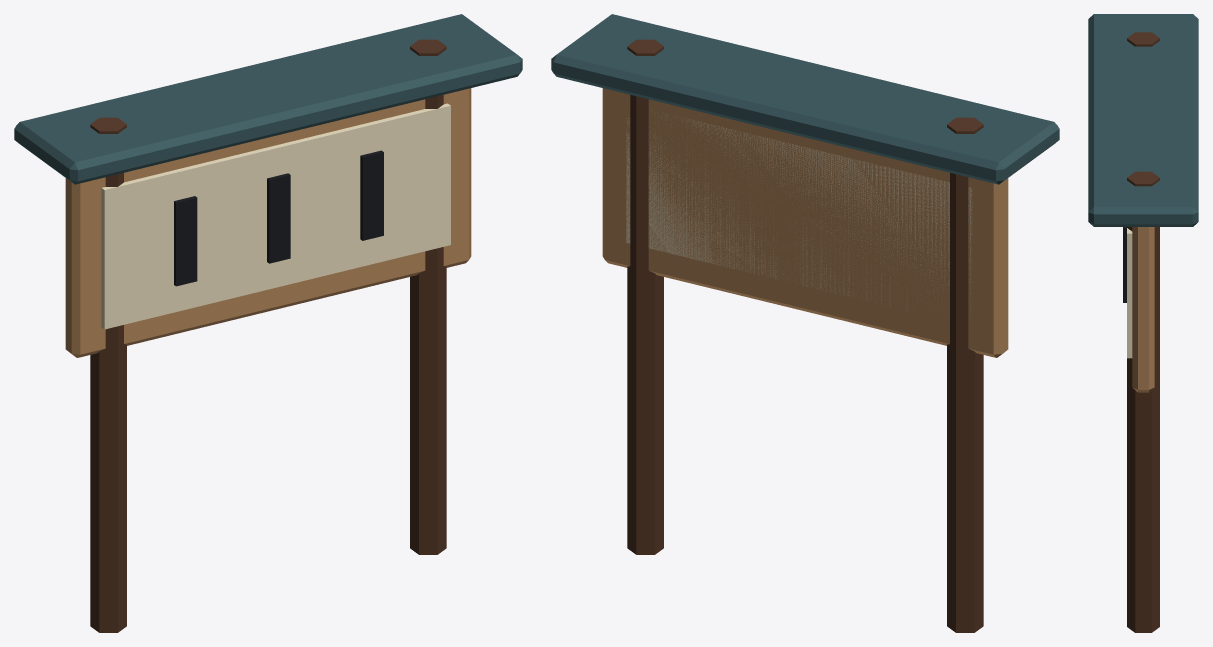
Rendered from signboard.glb.
3 views of the same model, side by side, from view 1: azimuth 30°, elevation 25°; view 2: azimuth 150°, elevation 25°; view 3: azimuth 270°, elevation 25° (orthographic). The views are drawn at different scales.
Visible parts, largest first — view 1: Sign; view 2: Sign; view 3: Sign.
Boxes of the visible parts, x1,y1,x2,y2 form: Sign: (14,14,522,632); Sign: (551,14,1059,632); Sign: (1088,14,1198,632).
Size of what is drawn, in the model's own units: 1.7 by 1.8 by 0.4.
